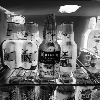beer: (37, 10, 62, 82)
